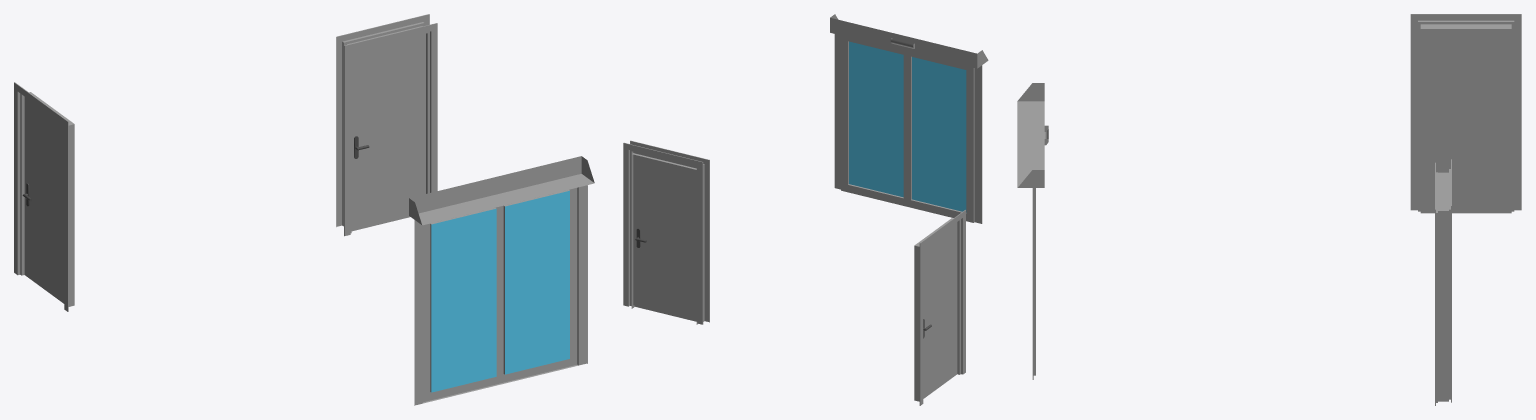
The model's file is Puertas.fbx.
3 renders of one model, left to right at view 1: azimuth 30°, elevation 25°; view 2: azimuth 150°, elevation 25°; view 3: azimuth 270°, elevation 25°, orthographic. The views are drawn at different scales.
Visible parts, largest first — view 1: PuertaRecepcion, CristalDerechoPuerta, CristalIzquierdoPuerta, PuertaAseo, PuertaAutomaticaSuperior, MarcoPuertaAseo, MarcoPuertaRecepcion, PDer Ppal, PIzq Ppal, MarcoPuertaConsulta, MDer Ppal, MIzq Ppal; view 2: PuertaConsulta, CristalIzquierdoPuerta, CristalDerechoPuerta, PuertaAseo, MarcoPuertaAseo, MarcoPuertaConsulta, PIzq Ppal, PDer Ppal, PuertaAutomaticaSuperior, MarcoPuertaRecepcion, MIzq Ppal, MDer Ppal; view 3: PuertaAseo, MarcoPuertaAseo, MarcoPuertaConsulta, PuertaAutomaticaSuperior, MarcoPuertaRecepcion, PDer Ppal.
Part boxes in pixels (box(x1,y1,x2,y2)): PuertaRecepcion: box(351, 33, 425, 231); CristalDerechoPuerta: box(431, 208, 496, 392); CristalIzquierdoPuerta: box(505, 190, 569, 374); PuertaAseo: box(24, 97, 64, 303); PuertaAutomaticaSuperior: box(409, 156, 594, 225); MarcoPuertaAseo: box(14, 82, 74, 311); MarcoPuertaRecepcion: box(344, 23, 437, 236); PDer Ppal: box(499, 187, 578, 384); PIzq Ppal: box(423, 206, 500, 403); MarcoPuertaConsulta: box(336, 14, 429, 226); MDer Ppal: box(578, 185, 587, 365); MIzq Ppal: box(414, 220, 422, 405); PuertaConsulta: box(633, 152, 696, 320); CristalIzquierdoPuerta: box(849, 41, 903, 197); CristalDerechoPuerta: box(912, 57, 966, 212); PuertaAseo: box(923, 222, 957, 398); MarcoPuertaAseo: box(914, 210, 965, 405); MarcoPuertaConsulta: box(623, 142, 703, 324); PIzq Ppal: box(907, 51, 974, 222); PDer Ppal: box(841, 35, 907, 206); PuertaAutomaticaSuperior: box(830, 14, 988, 68); MarcoPuertaRecepcion: box(630, 140, 709, 324); MIzq Ppal: box(974, 65, 982, 223); MDer Ppal: box(834, 34, 840, 189); PuertaAseo: box(1420, 29, 1511, 213); MarcoPuertaAseo: box(1410, 14, 1521, 211); MarcoPuertaConsulta: box(1438, 159, 1451, 402); PuertaAutomaticaSuperior: box(1017, 83, 1044, 187); MarcoPuertaRecepcion: box(1435, 162, 1448, 405); PDer Ppal: box(1033, 188, 1035, 375).
Bounding box in the file's own units: 451 × 234 × 500.
